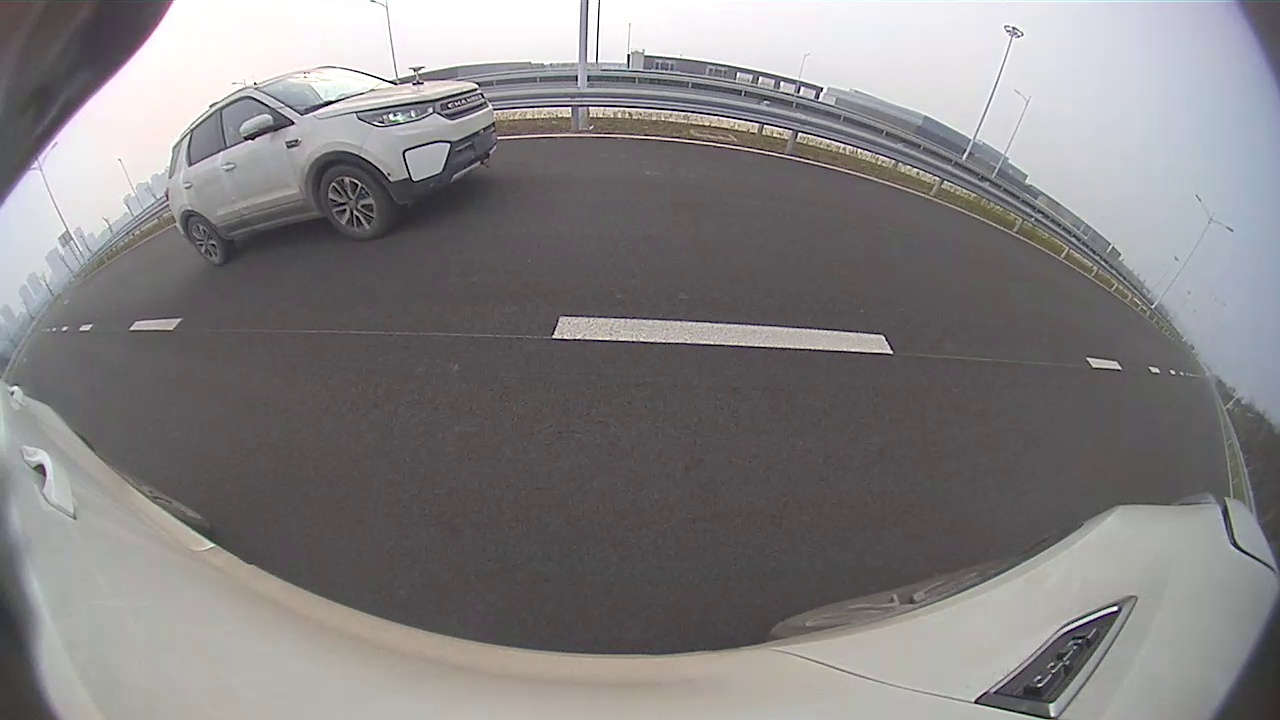car: (775, 70, 1279, 507)
front: (780, 189, 832, 275)
rear: (1050, 319, 1224, 507)
